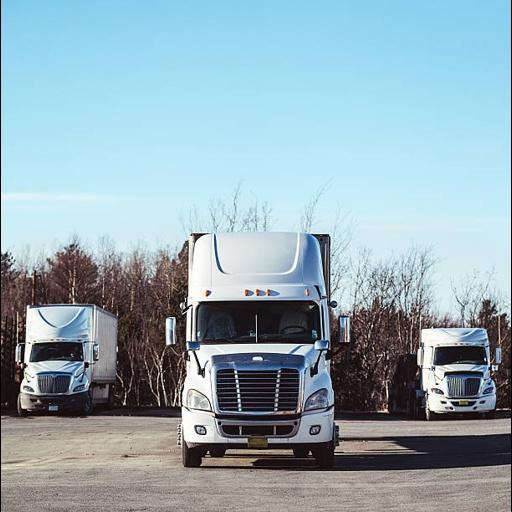truck: (162, 231, 351, 467), (12, 303, 124, 422), (384, 324, 500, 421)
